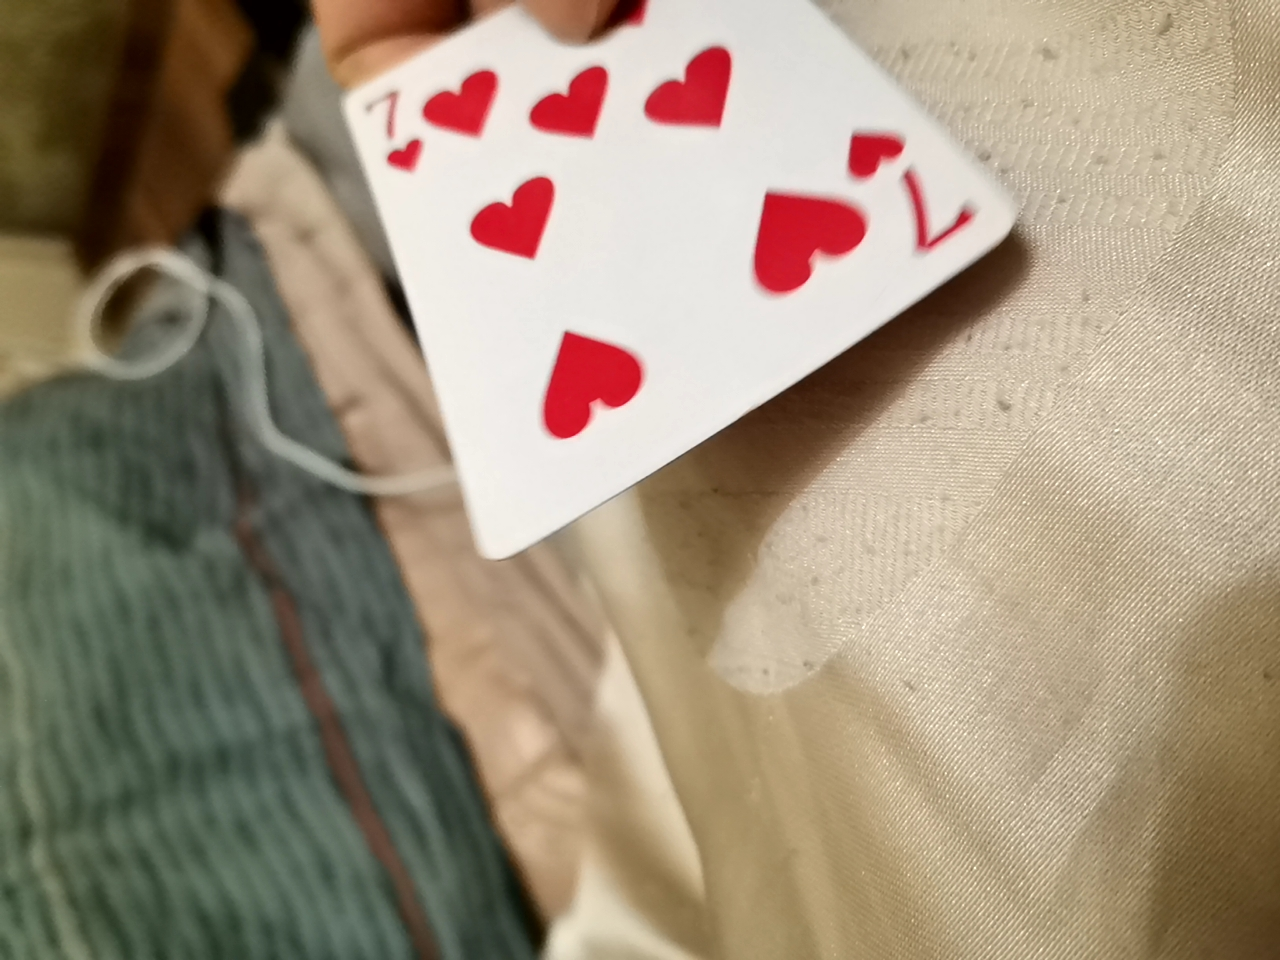hx 7: (340, 3, 995, 559)
